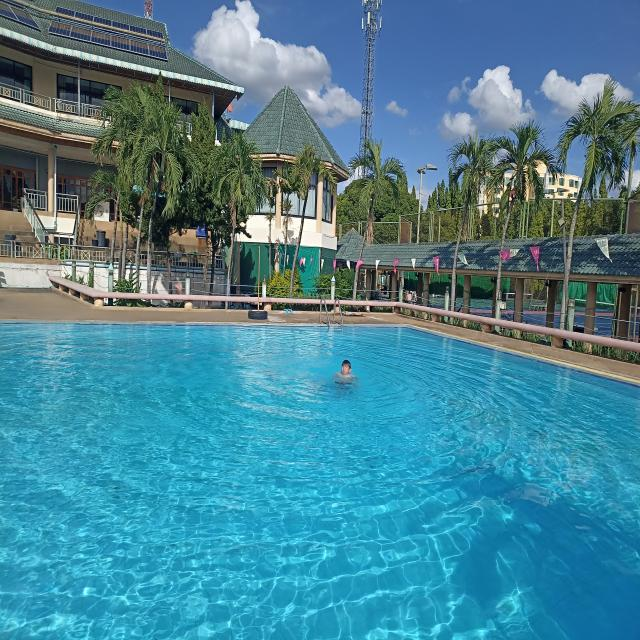Swimming: (330, 356, 360, 393)
